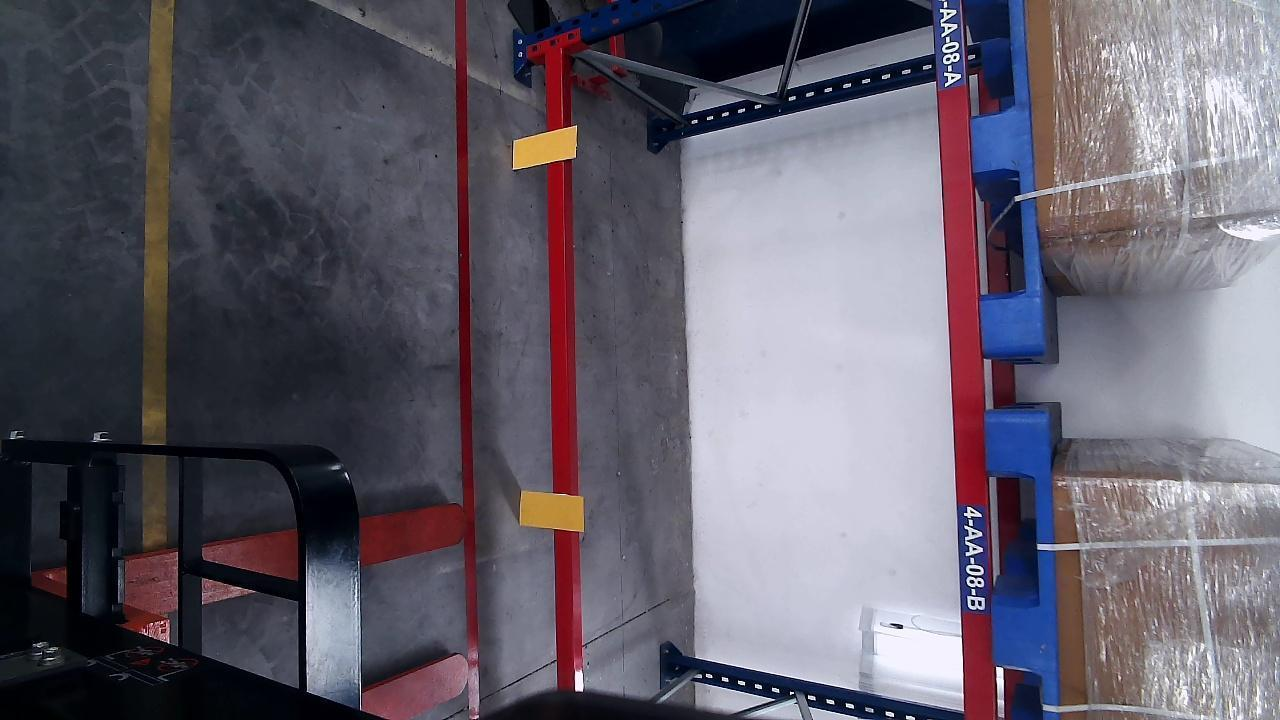red_line: (453, 2, 482, 718)
yellow_line: (142, 0, 175, 551)
